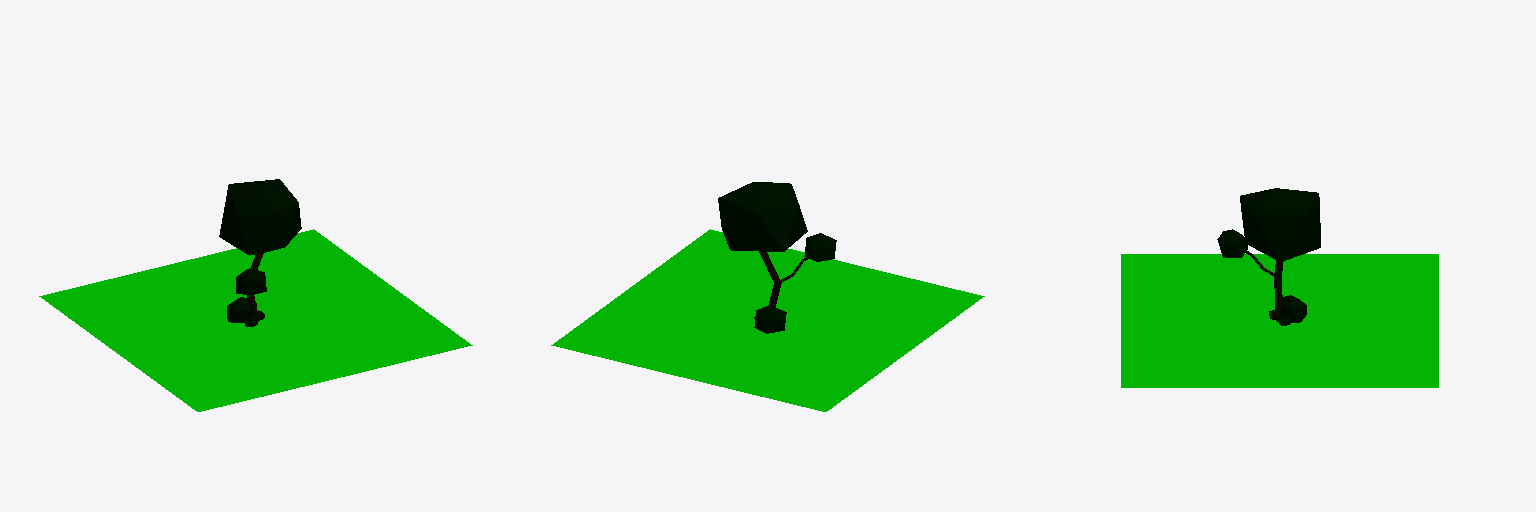
Rendered from tree.obj.
3 views of the same model, side by side, from view 1: azimuth 30°, elevation 25°; view 2: azimuth 150°, elevation 25°; view 3: azimuth 270°, elevation 25° (orthographic).
Parts seen in each view (by area): view 1: Plane, Icosphere.001_Icosphere.003, Icosphere_Icosphere.002; view 2: Plane, Icosphere.001_Icosphere.003, Icosphere_Icosphere.002, Icosphere.002_Icosphere.004; view 3: Plane, Icosphere.001_Icosphere.003, Icosphere_Icosphere.002, Icosphere.002_Icosphere.004.
Boxes of the visible parts, x1,y1,x2,y2 form: Plane: [39, 229, 472, 411]; Icosphere.001_Icosphere.003: [219, 179, 301, 255]; Icosphere_Icosphere.002: [236, 268, 266, 295]; Plane: [551, 229, 984, 411]; Icosphere.001_Icosphere.003: [718, 182, 807, 251]; Icosphere_Icosphere.002: [804, 233, 836, 261]; Icosphere.002_Icosphere.004: [754, 305, 786, 333]; Plane: [1121, 254, 1438, 387]; Icosphere.001_Icosphere.003: [1240, 188, 1320, 261]; Icosphere_Icosphere.002: [1217, 229, 1247, 257]; Icosphere.002_Icosphere.004: [1281, 295, 1306, 322].
Bounding box in the file's own units: 10 × 4.94 × 10.